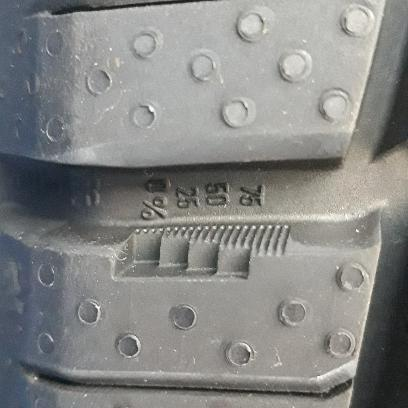temoin:100: (106, 214, 297, 295)
